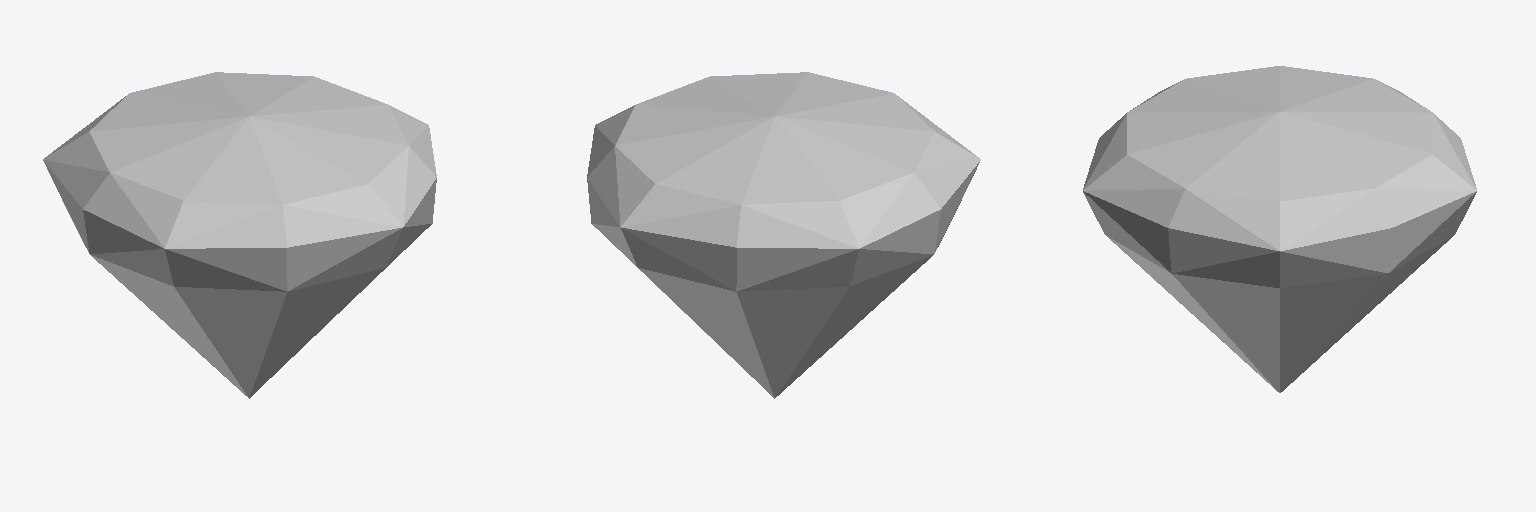
Rendered from gem3.obj.
The picture shows the model from 3 angles: view 1: azimuth 30°, elevation 25°; view 2: azimuth 150°, elevation 25°; view 3: azimuth 270°, elevation 25°; orthographic projection.
Visible parts, largest first — view 1: gem; view 2: gem; view 3: gem.
Boxes of the visible parts, x1=… form: gem: x1=43, y1=72, x2=436, y2=398; gem: x1=587, y1=72, x2=980, y2=398; gem: x1=1083, y1=66, x2=1476, y2=392.
Size of the model in its own units: 0.7655 by 0.5968 by 0.7567.